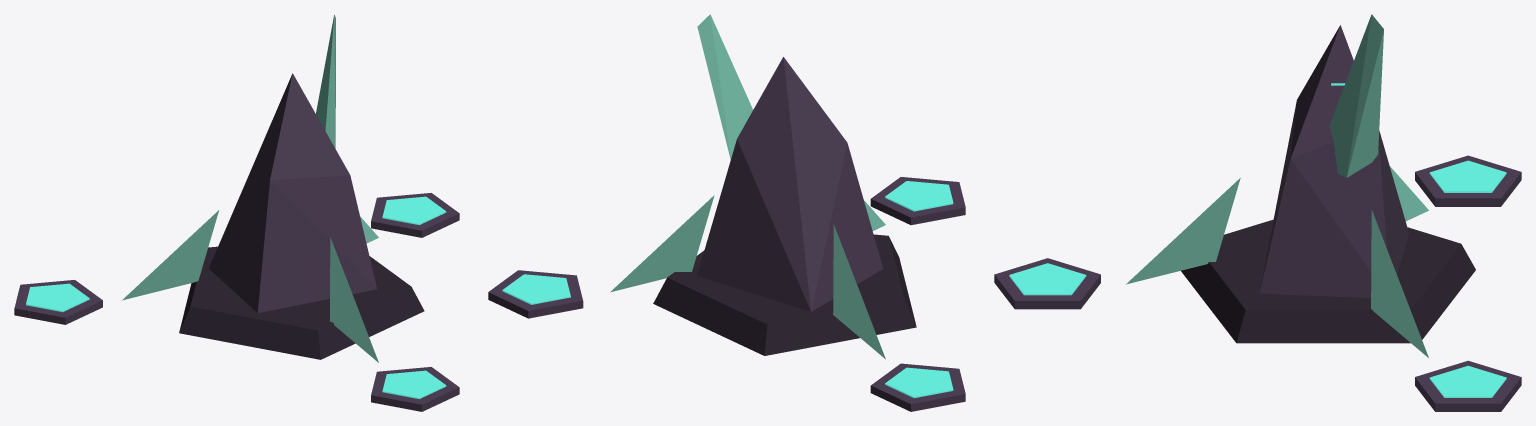
File: aln_str_outpost.glb
3 renders of one model, left to right at view 1: azimuth 30°, elevation 25°; view 2: azimuth 150°, elevation 25°; view 3: azimuth 270°, elevation 25°, orthographic. The views are drawn at different scales.
Parts seen in each view (by area): view 1: outpost, outpost_glow; view 2: outpost, outpost_glow; view 3: outpost, outpost_glow.
Part boxes in pixels (x1,y1,x2,y2): outpost: [14, 14, 459, 411]; outpost_glow: [26, 196, 446, 399]; outpost: [488, 14, 965, 411]; outpost_glow: [502, 181, 953, 398]; outpost: [994, 14, 1521, 411]; outpost_glow: [1009, 83, 1506, 397].
Size of the model in its own units: 18.84 by 11 by 16.92.
2 materials, 2 textured.
